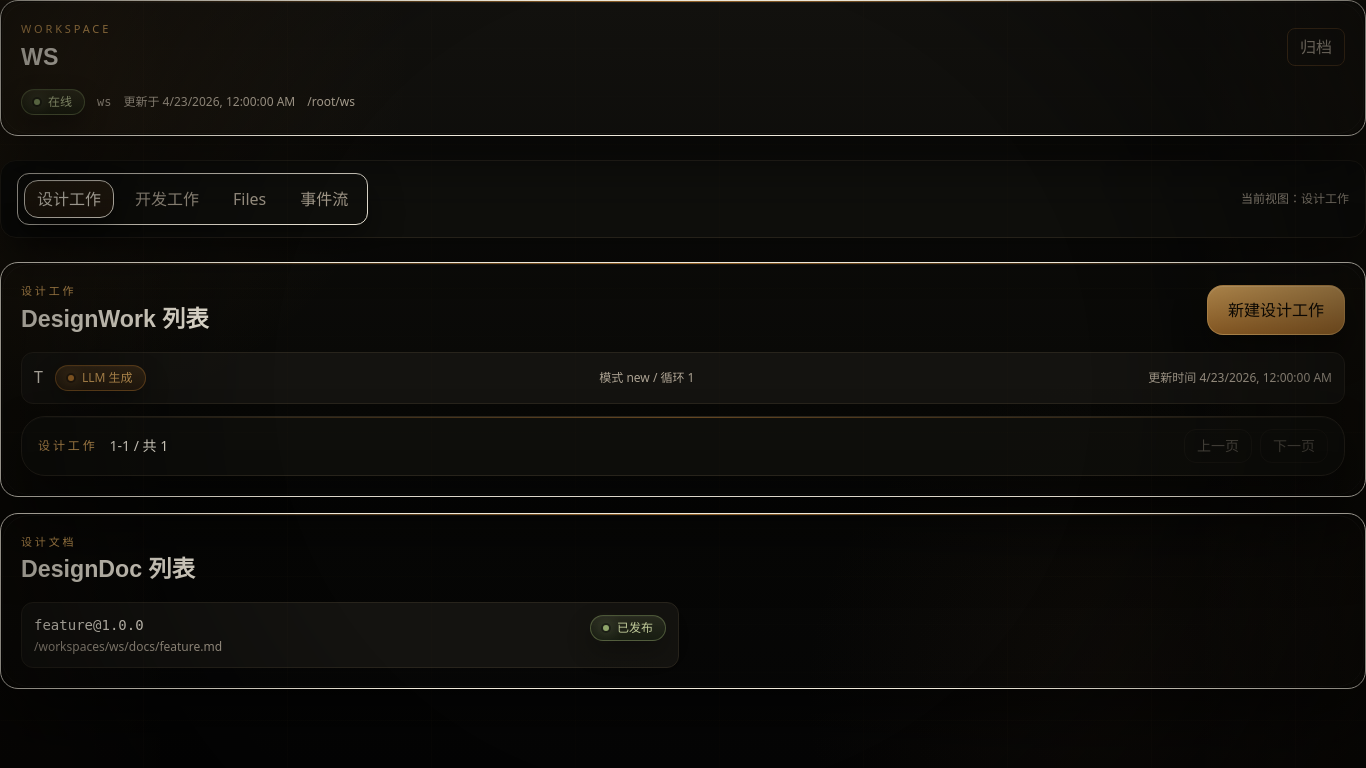
Test: WorkspaceDetailPage › bounds the workspace event stream while keeping pagination visible
The image size is (1366, 768).
Click the tab "事件流": (324, 199) [287, 180, 361, 218]
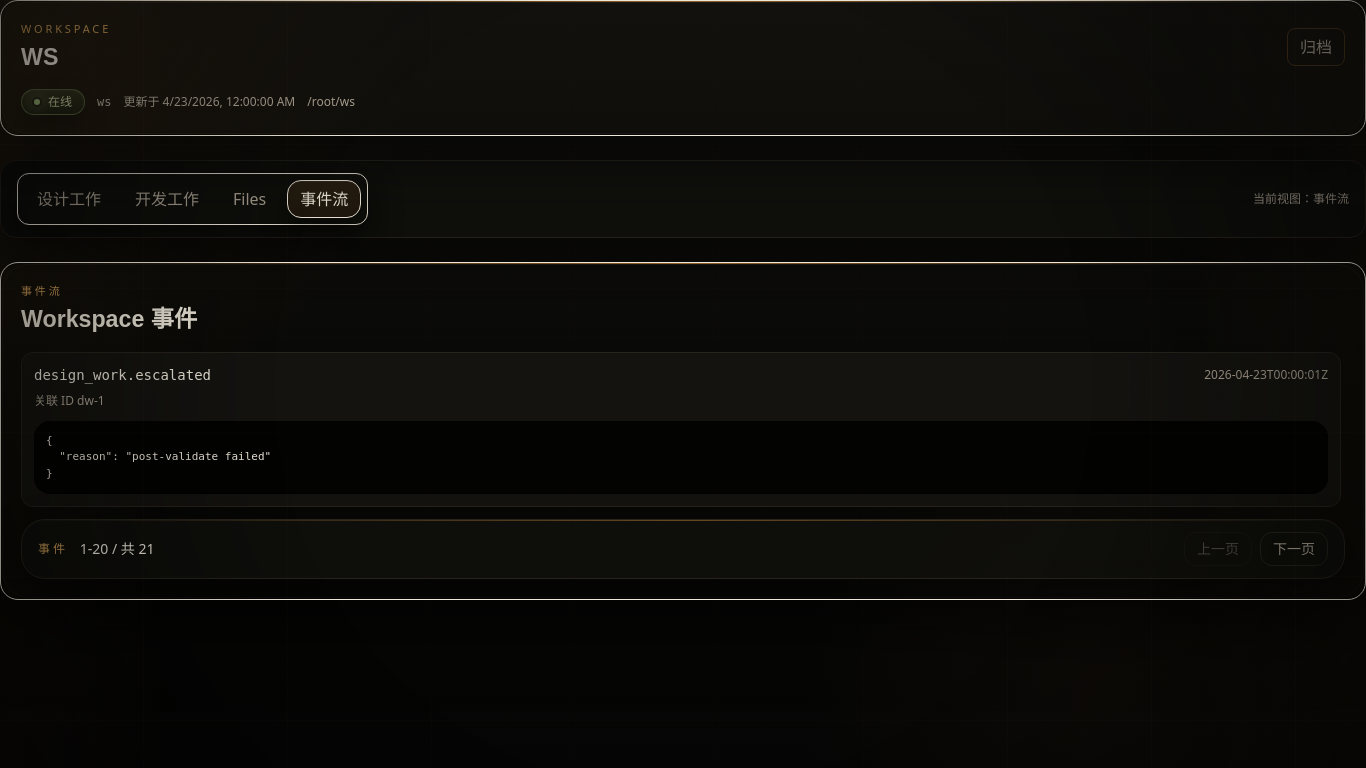
Now the text "design_work.escalated" is shown, box [34, 365, 211, 385]
Now the element with test id "workspace-events-feed" is shown, box [21, 352, 1345, 507]
Now the element showing "事件 1-20 / 共 21 上一页 下一页" is shown, box [21, 519, 1345, 579]
